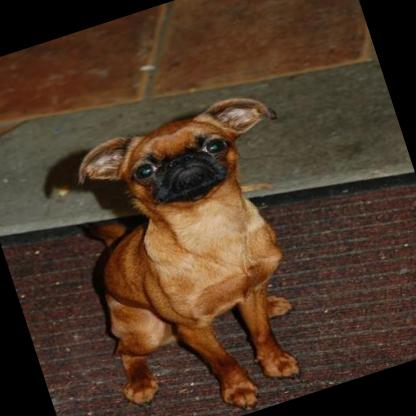Brabancon_griffon: (47, 85, 361, 416)
